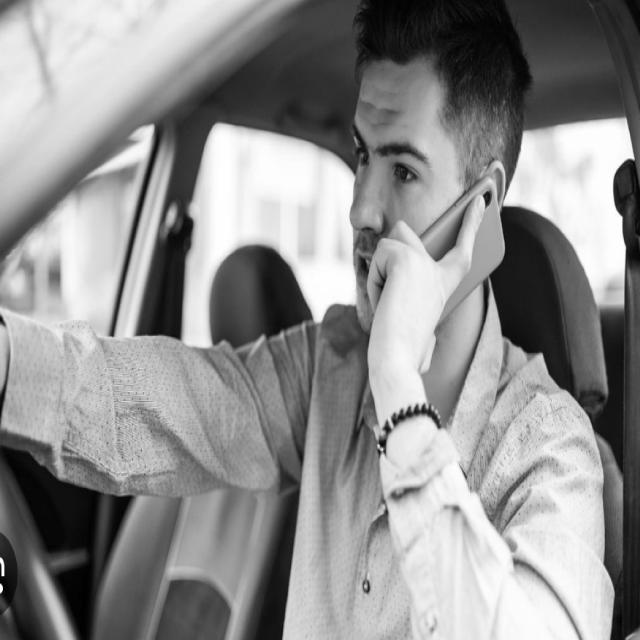Phone: (370, 156, 518, 348)
